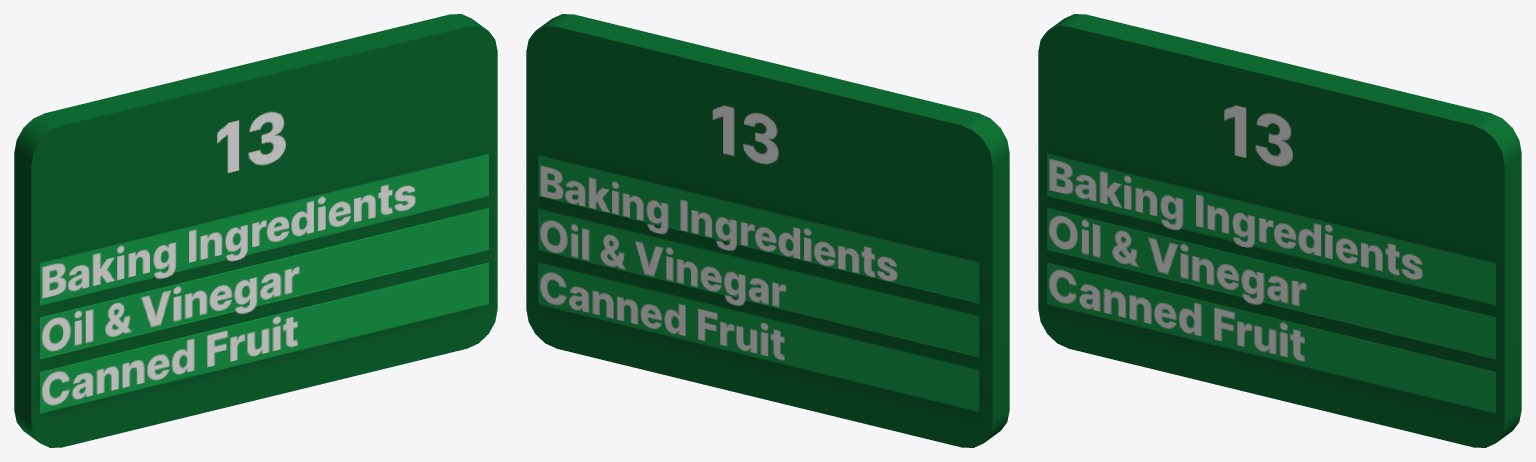
Rendered from aisle13.fbx.
3 renders of one model, left to right at view 1: azimuth 30°, elevation 25°; view 2: azimuth 150°, elevation 25°; view 3: azimuth 330°, elevation 25°, orthographic.
Visible parts, largest first — view 1: pCube1; view 2: pCube1; view 3: pCube1.
Part boxes in pixels (left/top/right/bottom): pCube1: left=14, top=14, right=497, bottom=447; pCube1: left=526, top=14, right=1009, bottom=447; pCube1: left=1038, top=14, right=1521, bottom=447.
Size of the model in its own units: 15.9 by 10.49 by 1.
